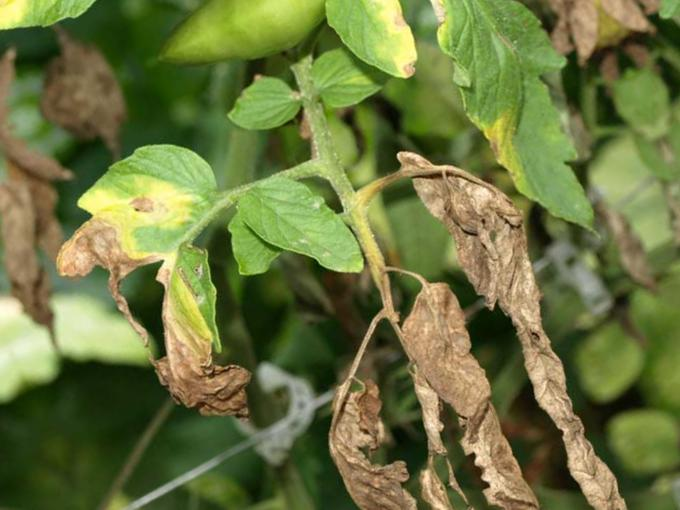Tomato Early blight leaf: (403, 0, 661, 264), (16, 109, 239, 303), (223, 156, 377, 313), (308, 0, 445, 112)
